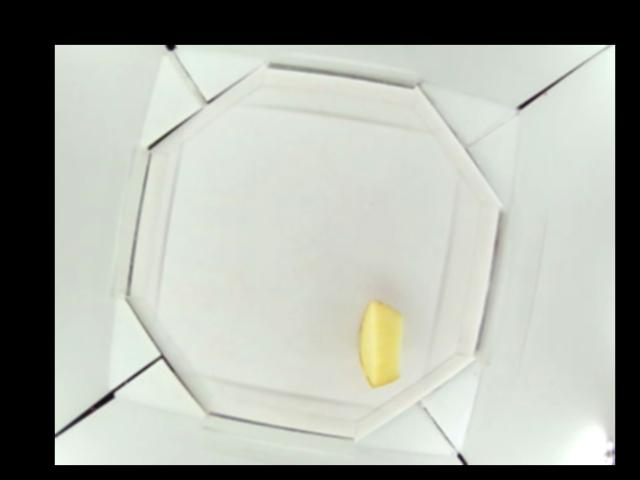Potato: (357, 300, 404, 390)
